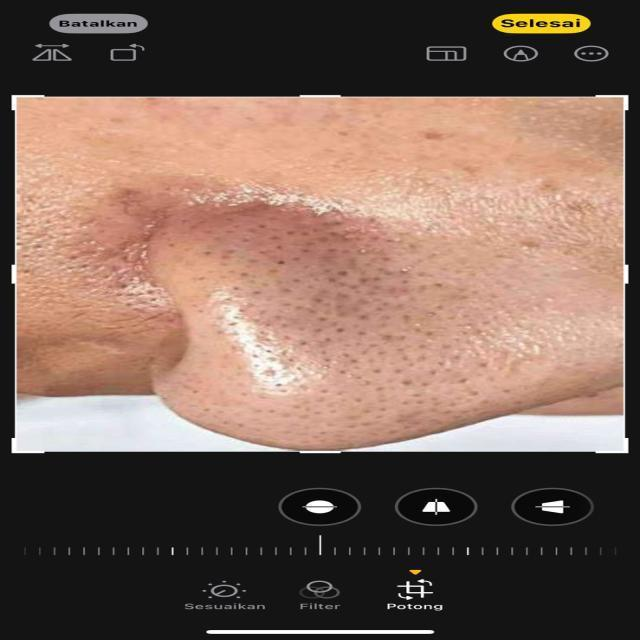blackhead: (183, 213, 498, 452)
